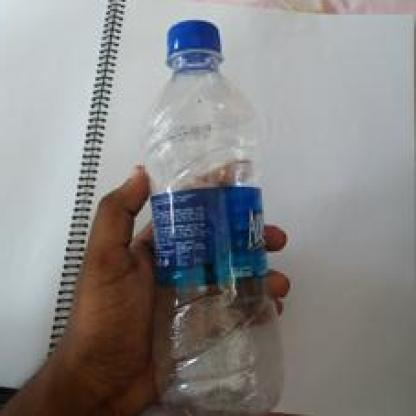bottle: (134, 15, 312, 414)
